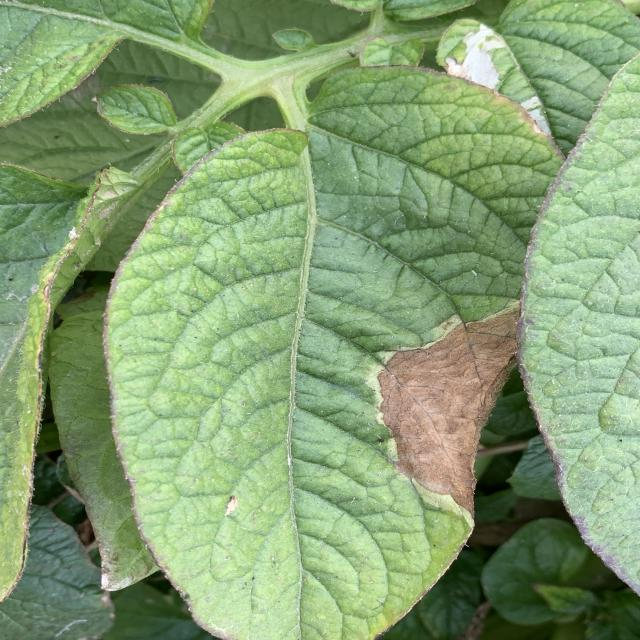lateblight: (378, 309, 518, 510)
